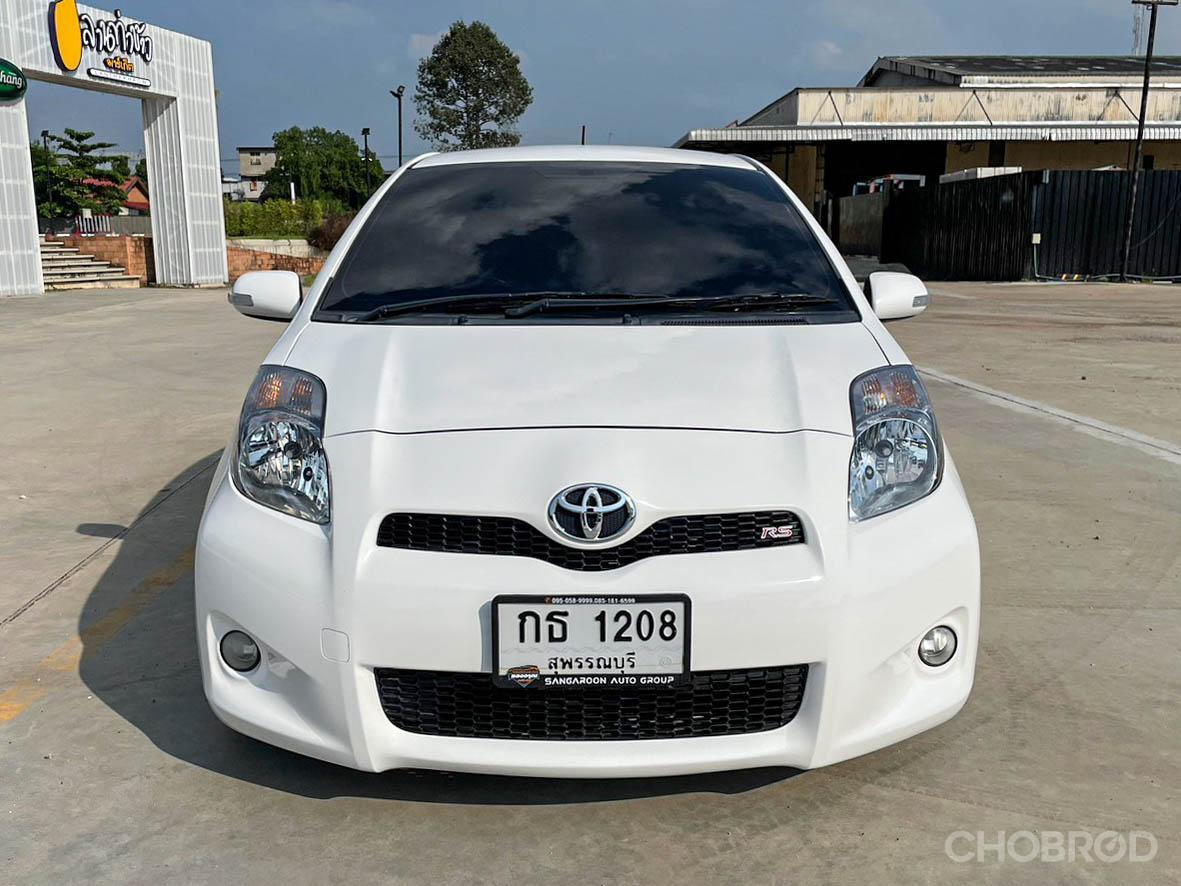license-plate: (478, 584, 701, 704)
